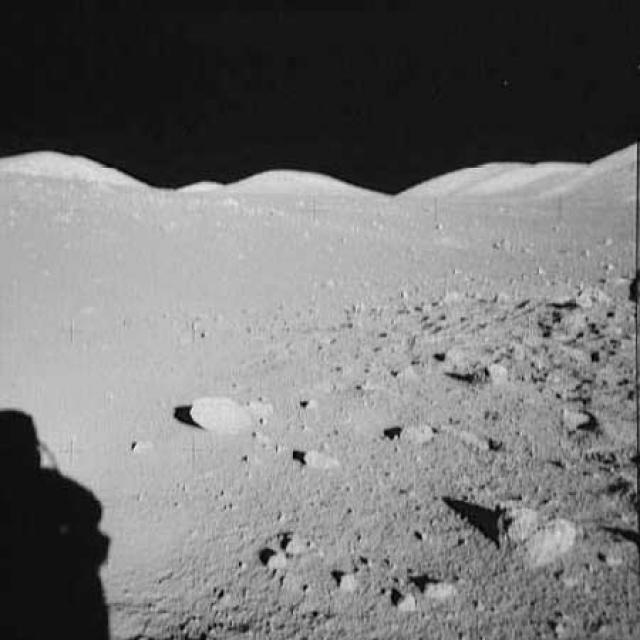rock: (492, 492, 580, 563), (170, 390, 280, 434), (541, 294, 597, 339), (379, 414, 435, 449), (300, 443, 338, 476)
